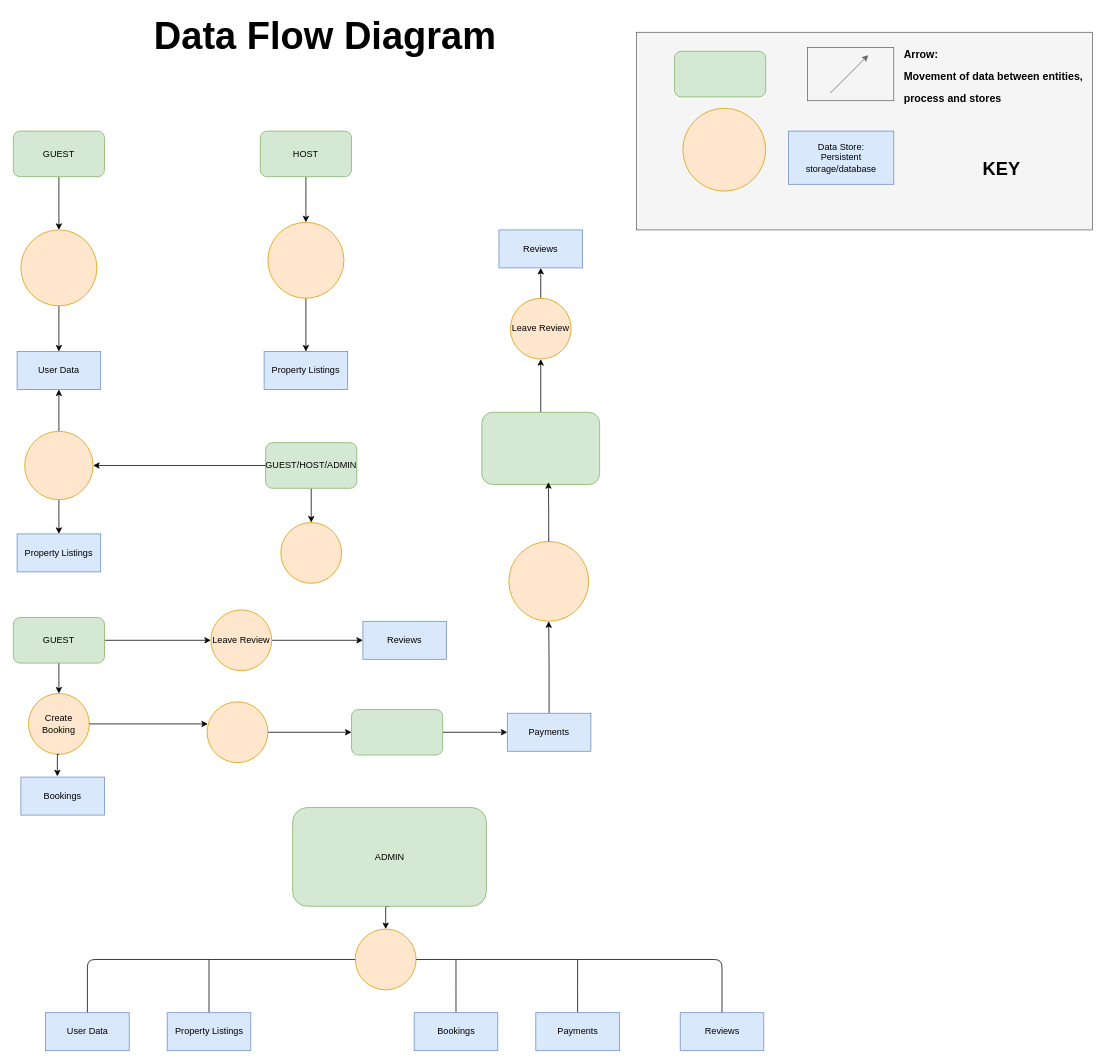
This 1106x1064 diagram has some shape labels left out. The centre of each missing label's shape, as x and y in pixels:
Admin Moderation: [385,959]
Create/Edit Property Listing: [305,260]
EMAIL NOTIFICATION SERVICE: [540,448]
External Entity: Actors or systems outside the app: [720,74]
Manage Profile: [311,552]
PAYMENT GATEWAY: [397,732]
Process Payment: [237,732]
Process: A system operation that transforms or routes data: [724,149]
Register/Login User: [58,267]
Search Properties Listings: [58,465]
Send Notifications: [548,581]
